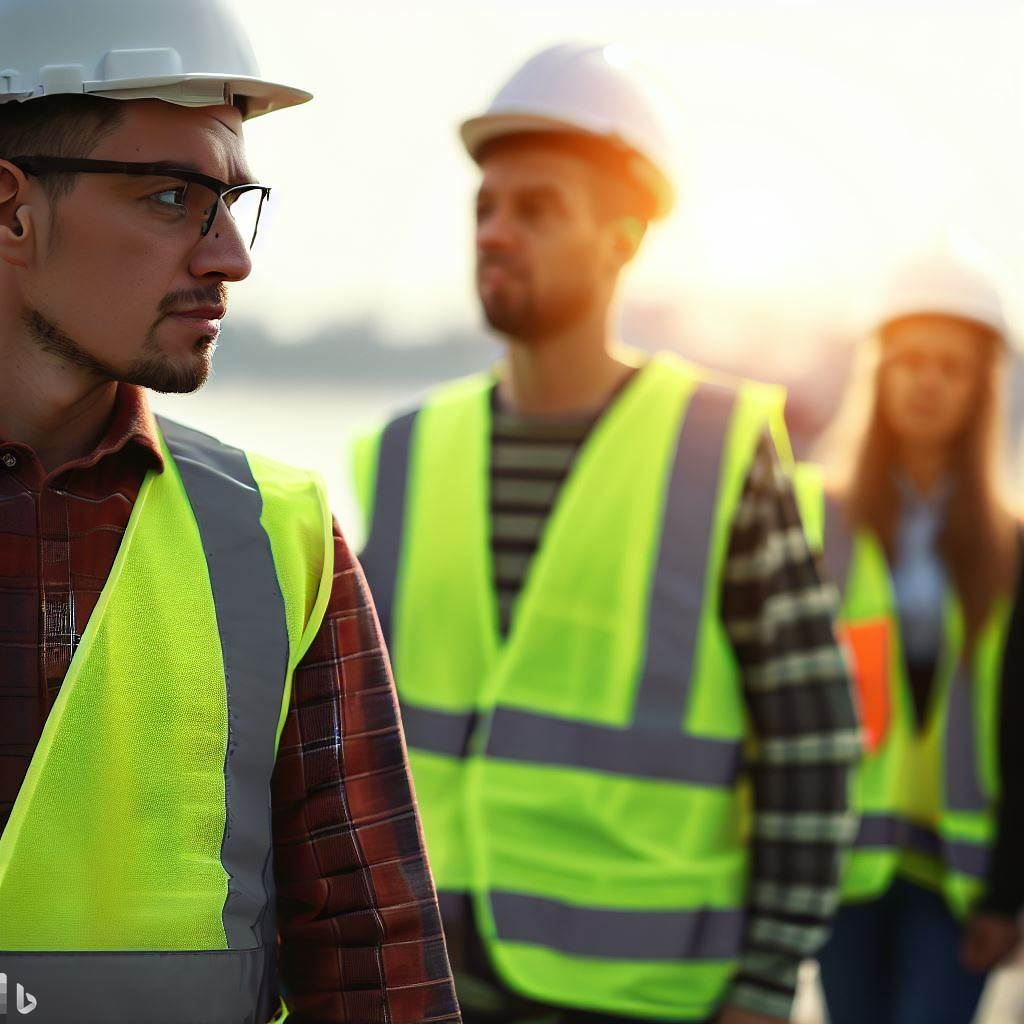Helmet: (1, 1, 341, 427), (442, 23, 712, 354)
Reflective vest: (346, 355, 791, 1024), (1, 423, 336, 1024)
